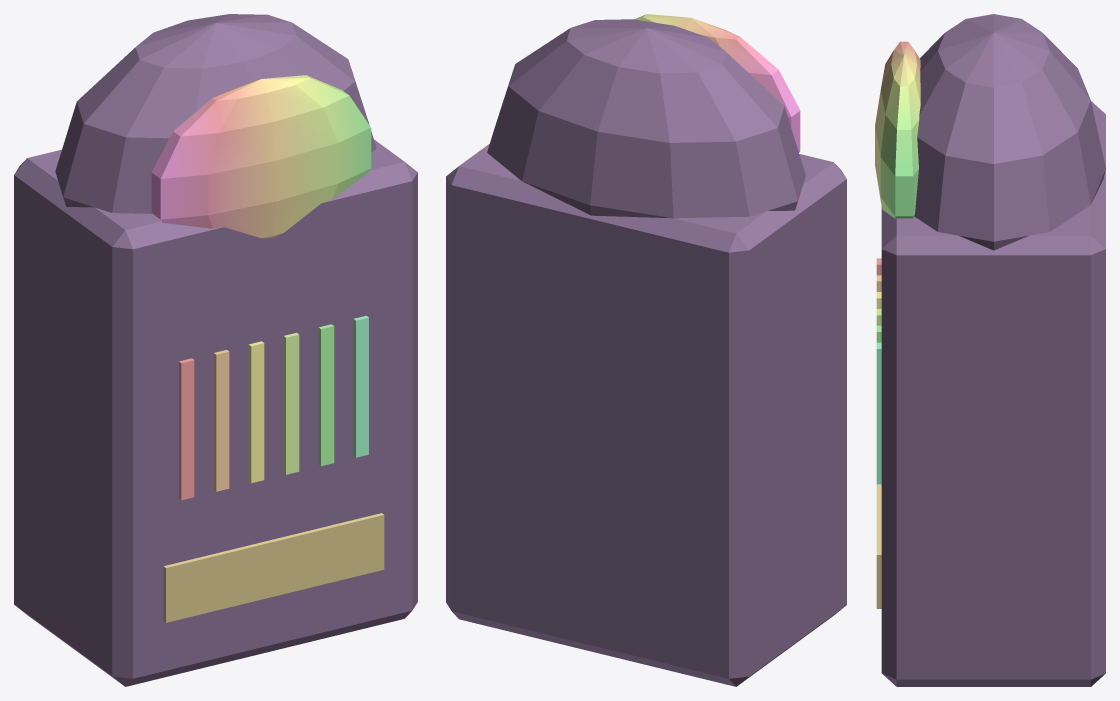
Rendered from Jukebox.fbx.
3 renders of one model, left to right at view 1: azimuth 30°, elevation 25°; view 2: azimuth 150°, elevation 25°; view 3: azimuth 270°, elevation 25°, orthographic.
Parts seen in each view (by area): view 1: Prop_Jukebox; view 2: Prop_Jukebox; view 3: Prop_Jukebox.
Boxes of the visible parts, box(x1,y1,x2,y2) form: Prop_Jukebox: box(14, 14, 417, 686); Prop_Jukebox: box(446, 14, 846, 686); Prop_Jukebox: box(875, 14, 1105, 686).
Size of the model in its own units: 0.7 by 1.3 by 0.4635.
